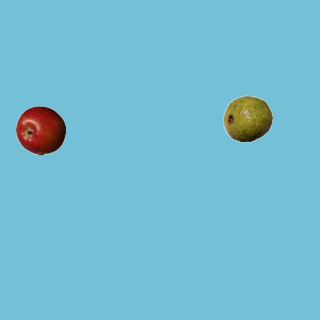Apple Braeburn: (15, 105, 65, 155)
Guava: (222, 93, 272, 143)
